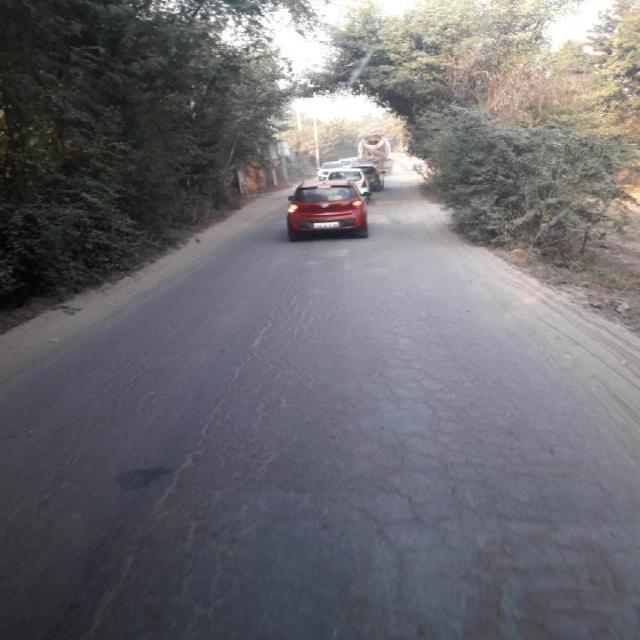crack: (101, 268, 632, 640)
pothole: (96, 284, 286, 614)
